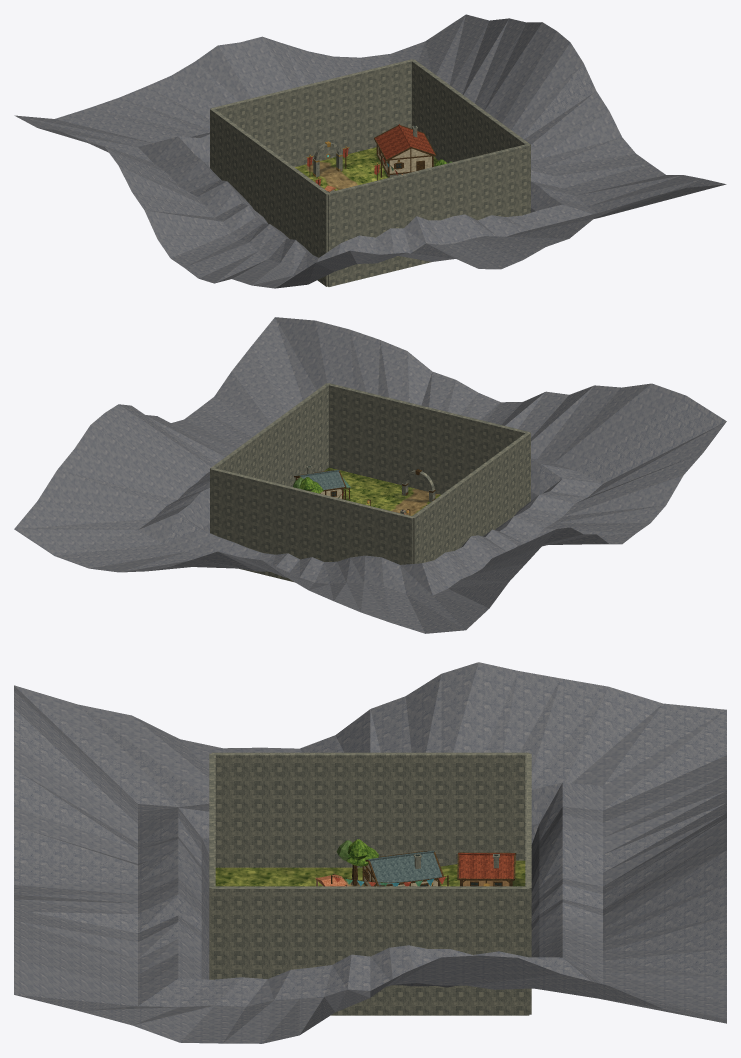
File: Bellmarket-23614b0bf951.glb
3 renders of one model, top to bottom at view 1: azimuth 30°, elevation 25°; view 2: azimuth 150°, elevation 25°; view 3: azimuth 270°, elevation 25°, orthographic. The views are drawn at different scales.
Parts seen in each view (by area): view 1: Rim, C_Solids, Set, Terrain; view 2: Rim, C_Solids, Terrain, Set; view 3: Rim, C_Solids, Set, Terrain.
Boxes of the visible parts, <box> form: Rim: <box>14,14,726,288</box>; C_Solids: <box>210,59,530,286</box>; Set: <box>306,124,452,191</box>; Terrain: <box>295,147,438,190</box>; Rim: <box>14,317,726,633</box>; C_Solids: <box>210,383,530,582</box>; Terrain: <box>324,467,440,515</box>; Set: <box>293,465,435,515</box>; Rim: <box>14,662,726,1043</box>; C_Solids: <box>209,752,531,1015</box>; Set: <box>315,839,516,886</box>; Terrain: <box>215,860,525,886</box>.
Bounding box in the file's own units: 92 × 20.29 × 92.
23 materials, 23 textured.
